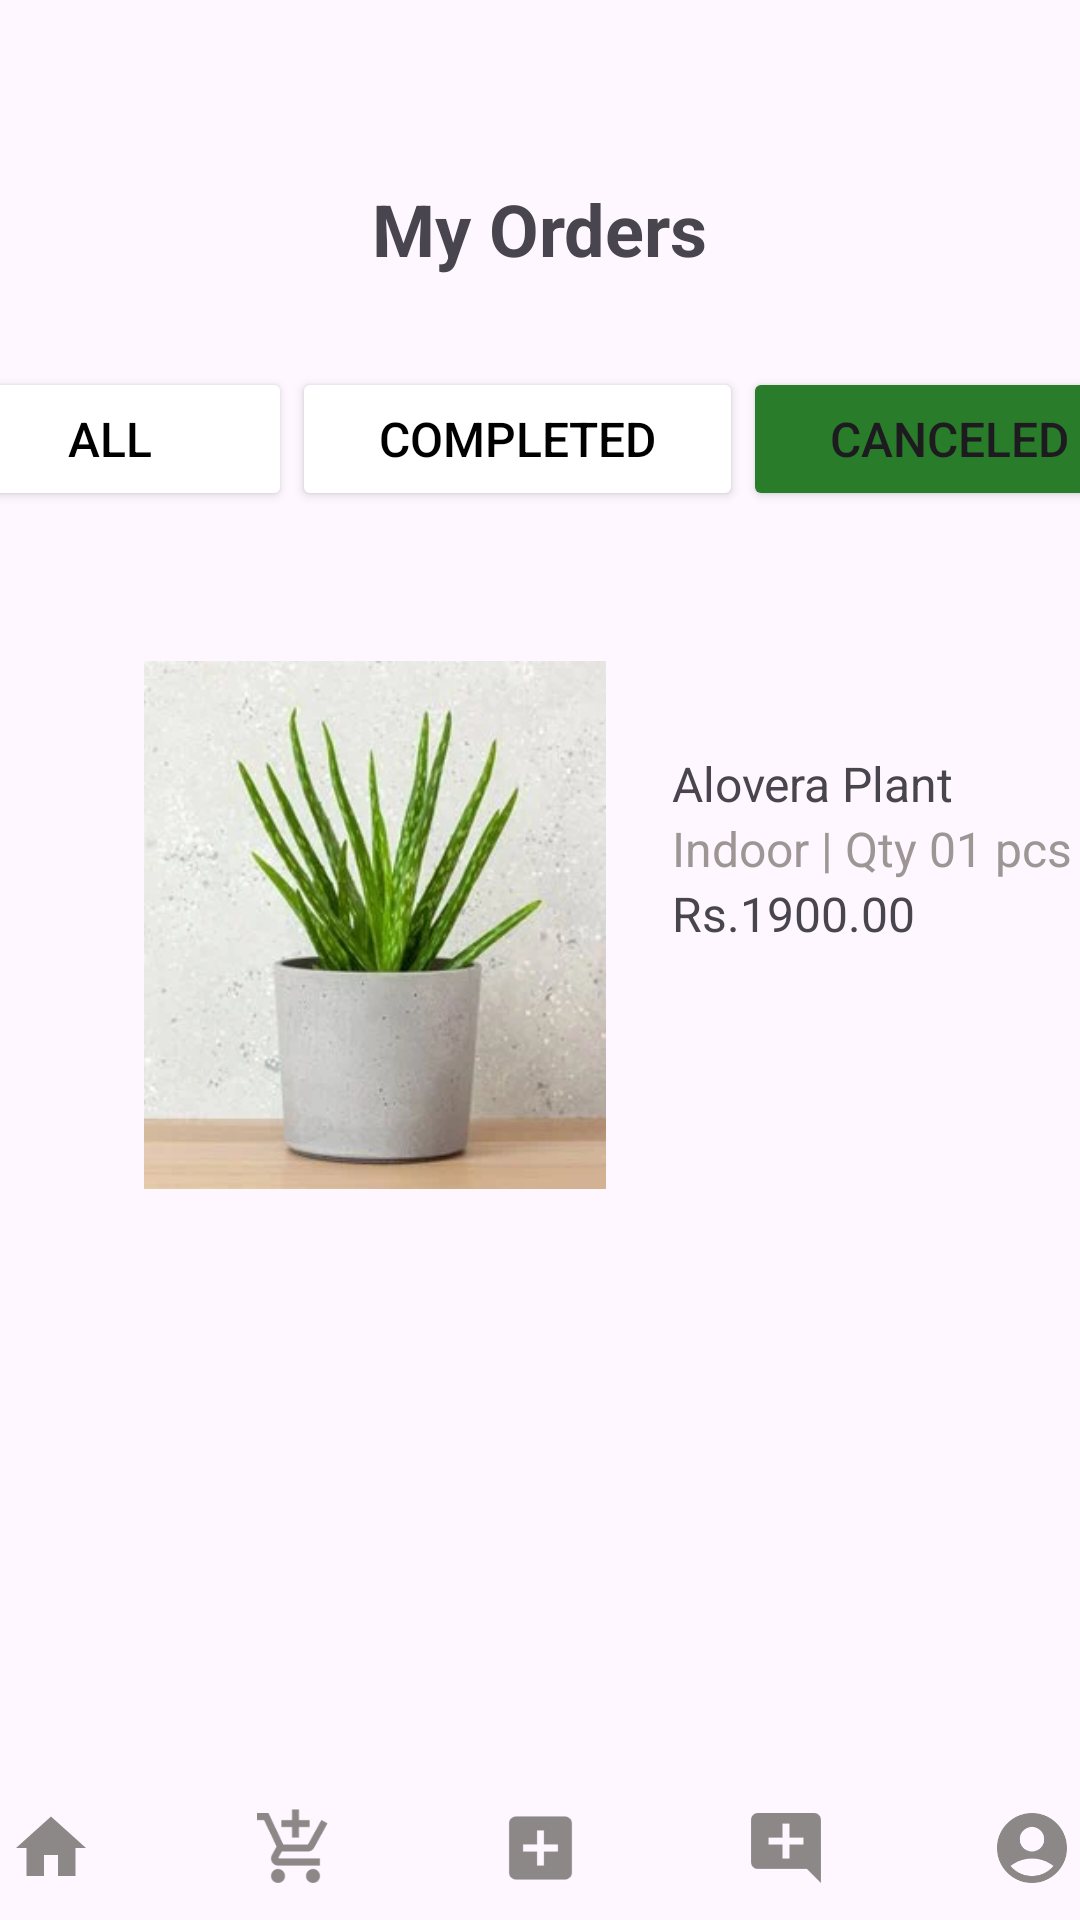

Screen size 1080 × 1920. Icon name, then its box in pixels as (x1, y1, x2, y2):
add box: (509, 1816, 572, 1880)
add comment: (751, 1813, 821, 1883)
add shopping cart: (257, 1809, 328, 1883)
